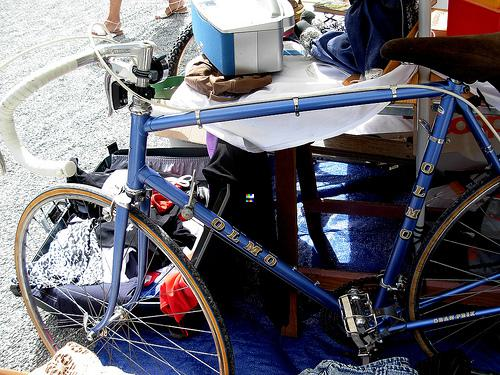car: (1, 22, 500, 375)
